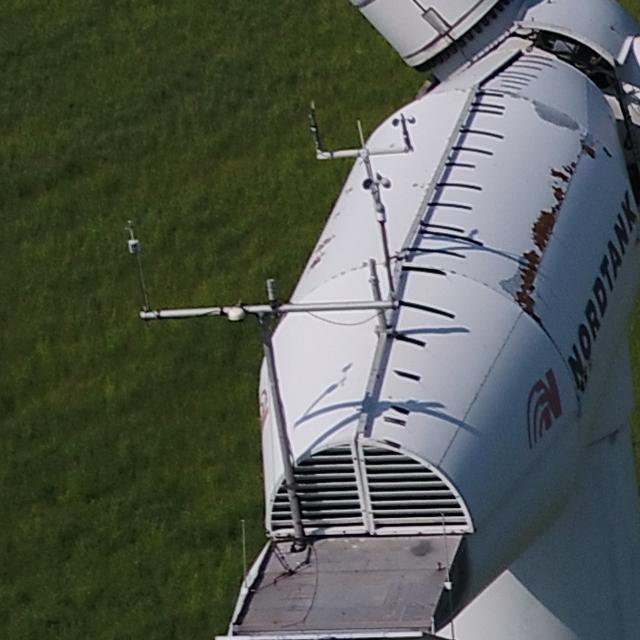damage: (518, 303, 565, 366), (512, 248, 547, 317), (526, 97, 582, 134), (528, 205, 562, 250), (575, 136, 599, 162), (547, 181, 568, 203), (597, 142, 618, 162), (547, 164, 571, 181), (561, 163, 580, 176)
